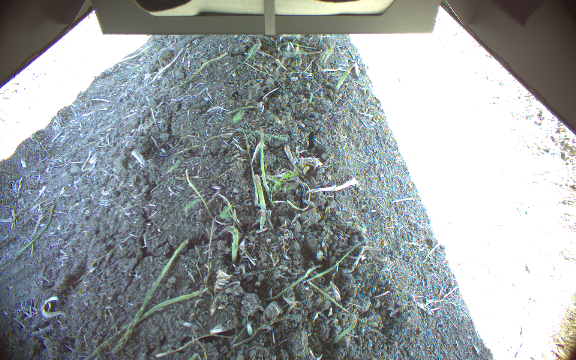aspa: (254, 123, 273, 197), (223, 222, 240, 266), (252, 172, 269, 216), (333, 62, 355, 93), (319, 40, 336, 64), (254, 208, 267, 231)
